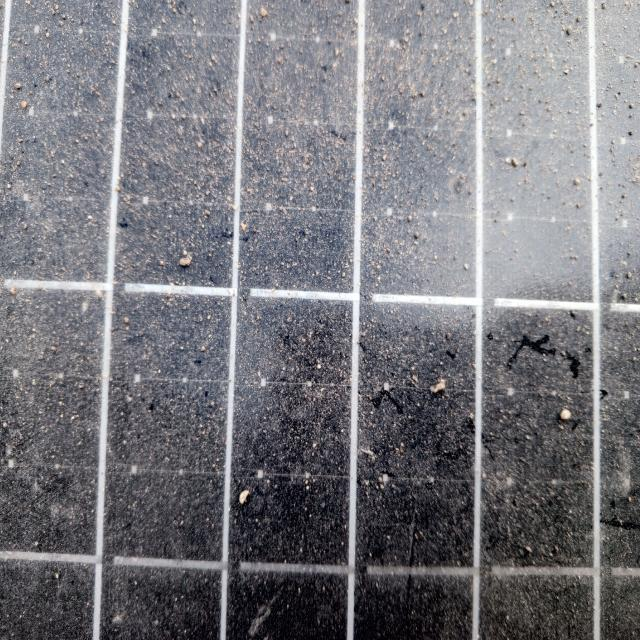Surface Contaminant: (135, 172, 629, 639)
